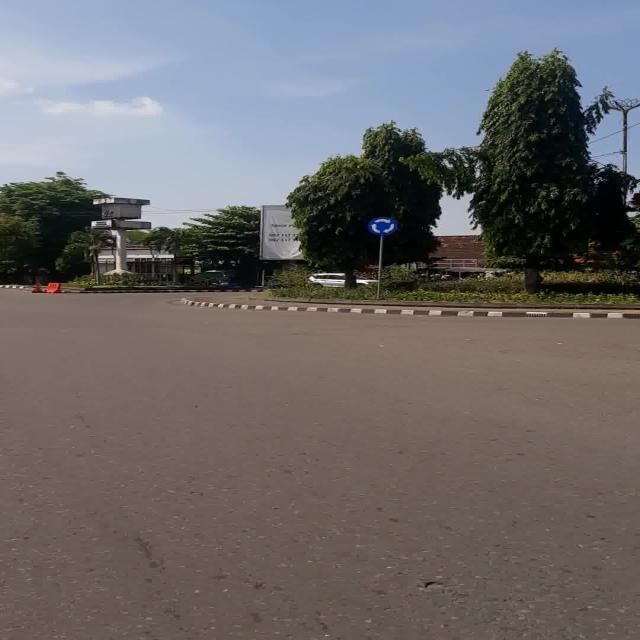Ikuti Bundaran: (367, 217, 398, 236)
